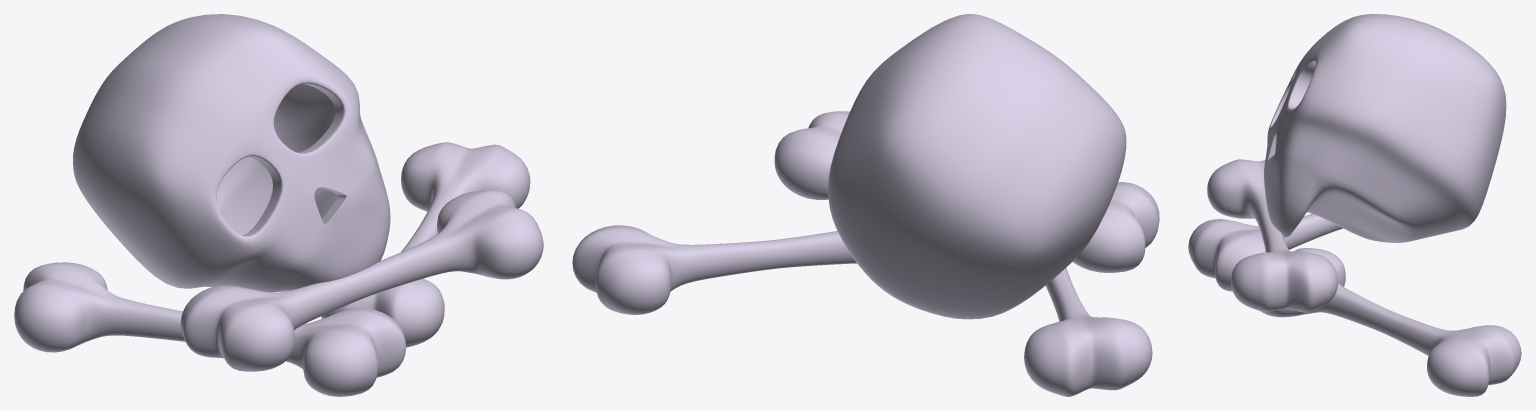
The model's file is Skull and Bones.fbx.
3 renders of one model, left to right at view 1: azimuth 30°, elevation 25°; view 2: azimuth 150°, elevation 25°; view 3: azimuth 270°, elevation 25°, orthographic. The views are drawn at different scales.
Visible parts, largest first — view 1: Cube.002; view 2: Cube.002; view 3: Cube.002.
Part boxes in pixels (left/top/right/bottom): Cube.002: left=14, top=14, right=543, bottom=396; Cube.002: left=572, top=14, right=1159, bottom=396; Cube.002: left=1188, top=14, right=1521, bottom=396.
Bounding box in the file's own units: 86.72 × 46.61 × 56.41.
1 material, 1 textured.
